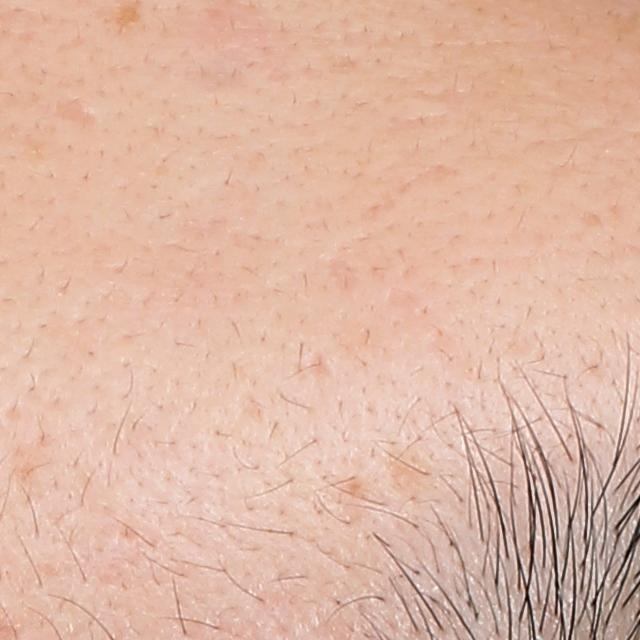atrophic_scar: (49, 97, 97, 130), (304, 348, 341, 388)
